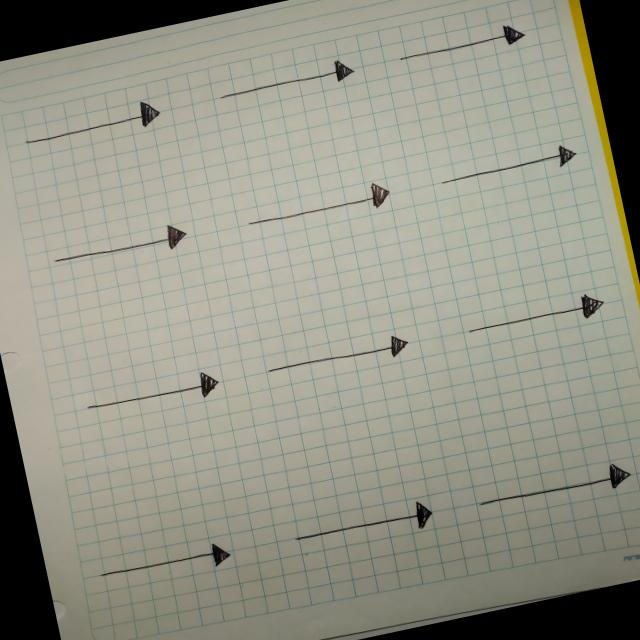arrow_line_right: (247, 318, 423, 394), (279, 490, 454, 564), (466, 451, 640, 525), (452, 280, 620, 356), (89, 530, 254, 599), (71, 358, 229, 428), (232, 175, 398, 241), (10, 92, 174, 158), (426, 134, 588, 200), (205, 49, 368, 114), (38, 212, 196, 278), (386, 12, 540, 78)
